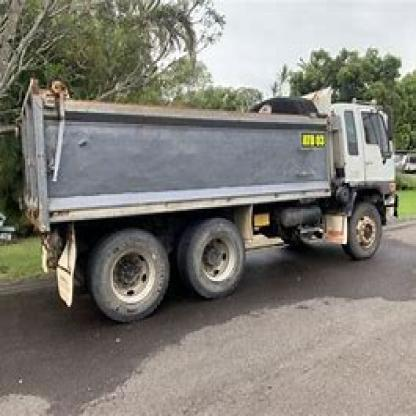dump_truck: (19, 55, 403, 324)
